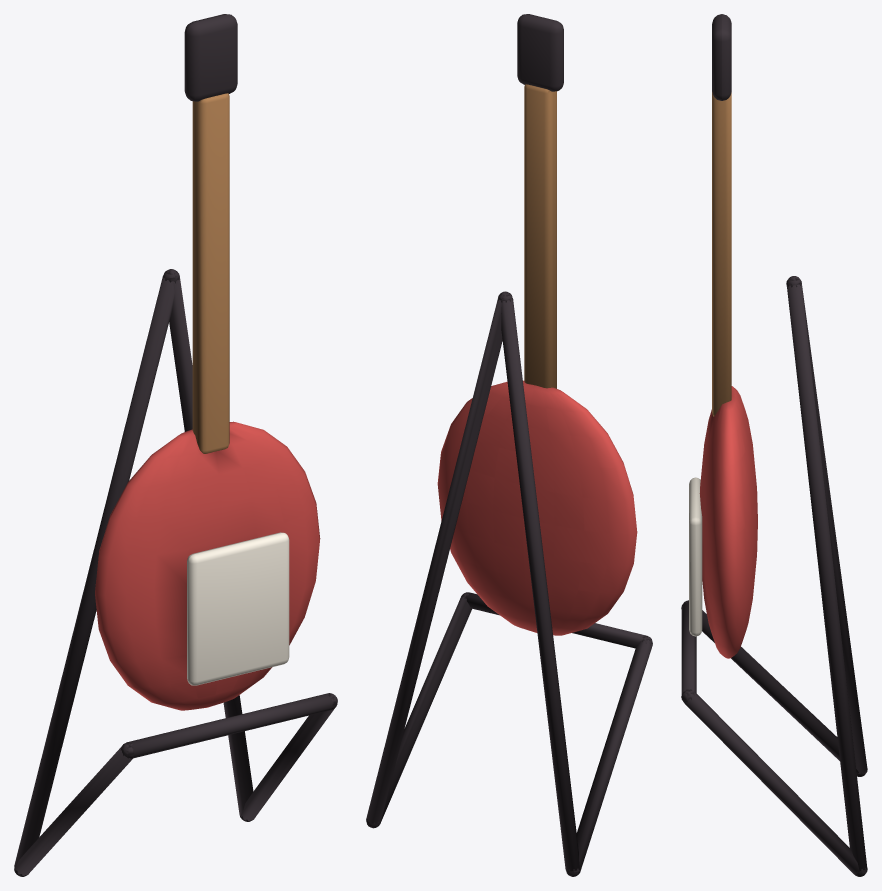
File: gift-zane.glb
3 views of the same model, side by side, from view 1: azimuth 30°, elevation 25°; view 2: azimuth 150°, elevation 25°; view 3: azimuth 270°, elevation 25° (orthographic). The views are drawn at different scales.
Visible parts, largest first — view 1: gift-zane; view 2: gift-zane; view 3: gift-zane.
Boxes of the visible parts, bbox=[...] form: gift-zane: bbox=[14, 14, 337, 876]; gift-zane: bbox=[366, 14, 652, 876]; gift-zane: bbox=[681, 14, 867, 876].
Bounding box in the file's own units: 0.3839 × 1.35 × 0.284.
